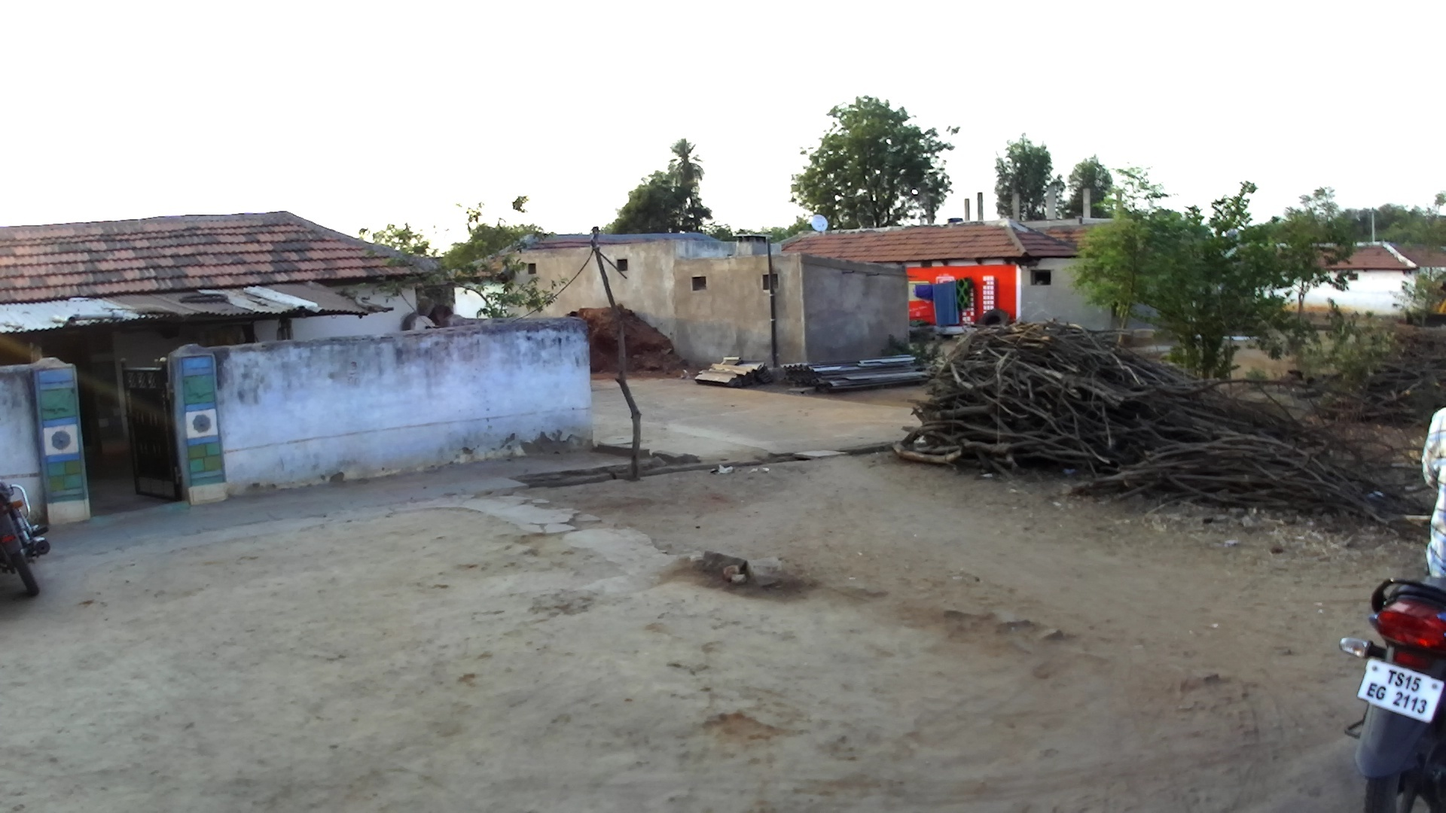motorcycle: (1338, 577, 1446, 813), (1, 484, 49, 596)
rider: (1420, 408, 1446, 581)
